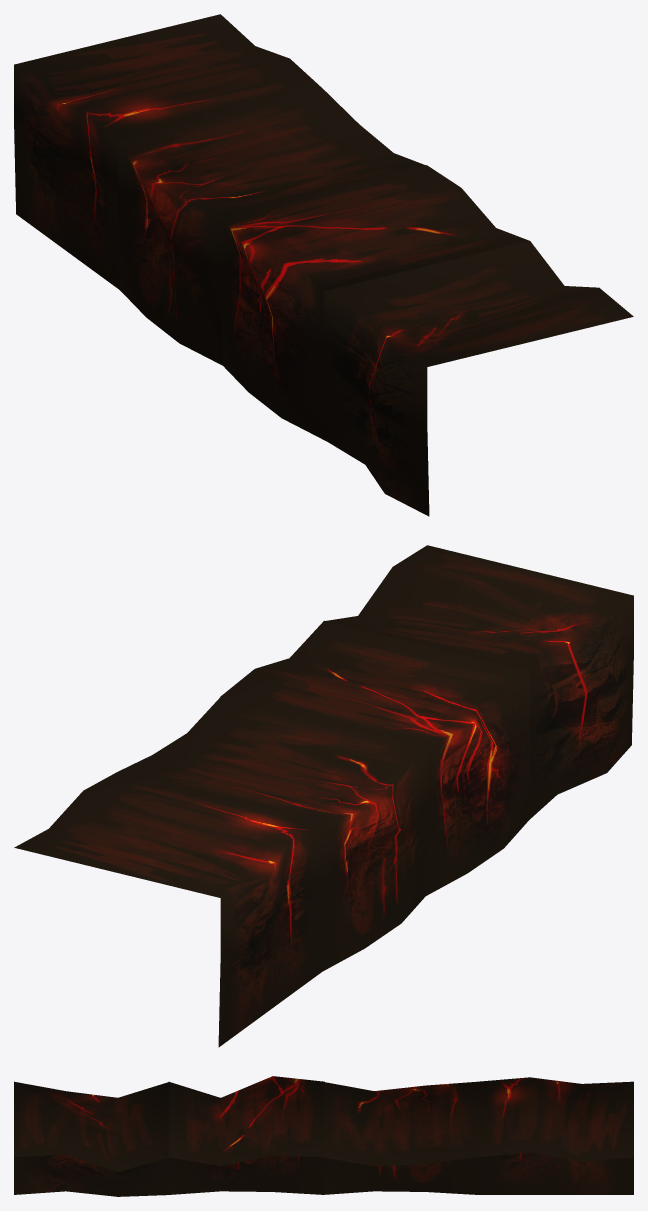
File: Tiles9.FBX
The picture shows the model from 3 angles, top to bottom: view 1: azimuth 30°, elevation 25°; view 2: azimuth 150°, elevation 25°; view 3: azimuth 270°, elevation 25°; orthographic projection. The views are drawn at different scales.
Visible parts, largest first — view 1: Plane005, Plane003, Plane006, Plane004; view 2: Plane005, Plane003, Plane004, Plane006; view 3: Plane003, Plane005, Plane004, Plane006.
Part boxes in pixels (x1=…): Plane005: x1=220, y1=165, x2=530, y2=440; Plane003: x1=14, y1=14, x2=324, y2=289; Plane006: x1=323, y1=240, x2=633, y2=516; Plane004: x1=117, y1=90, x2=425, y2=365; Plane005: x1=220, y1=620, x2=530, y2=895; Plane003: x1=14, y1=771, x2=324, y2=1047; Plane004: x1=118, y1=697, x2=428, y2=971; Plane006: x1=324, y1=545, x2=633, y2=820; Plane003: x1=478, y1=1077, x2=633, y2=1194; Plane005: x1=168, y1=1076, x2=324, y2=1194; Plane004: x1=322, y1=1081, x2=477, y2=1194; Plane006: x1=14, y1=1081, x2=169, y2=1196.
Size of the model in its own units: 499 by 332 by 1589.
1 material, 1 textured.
